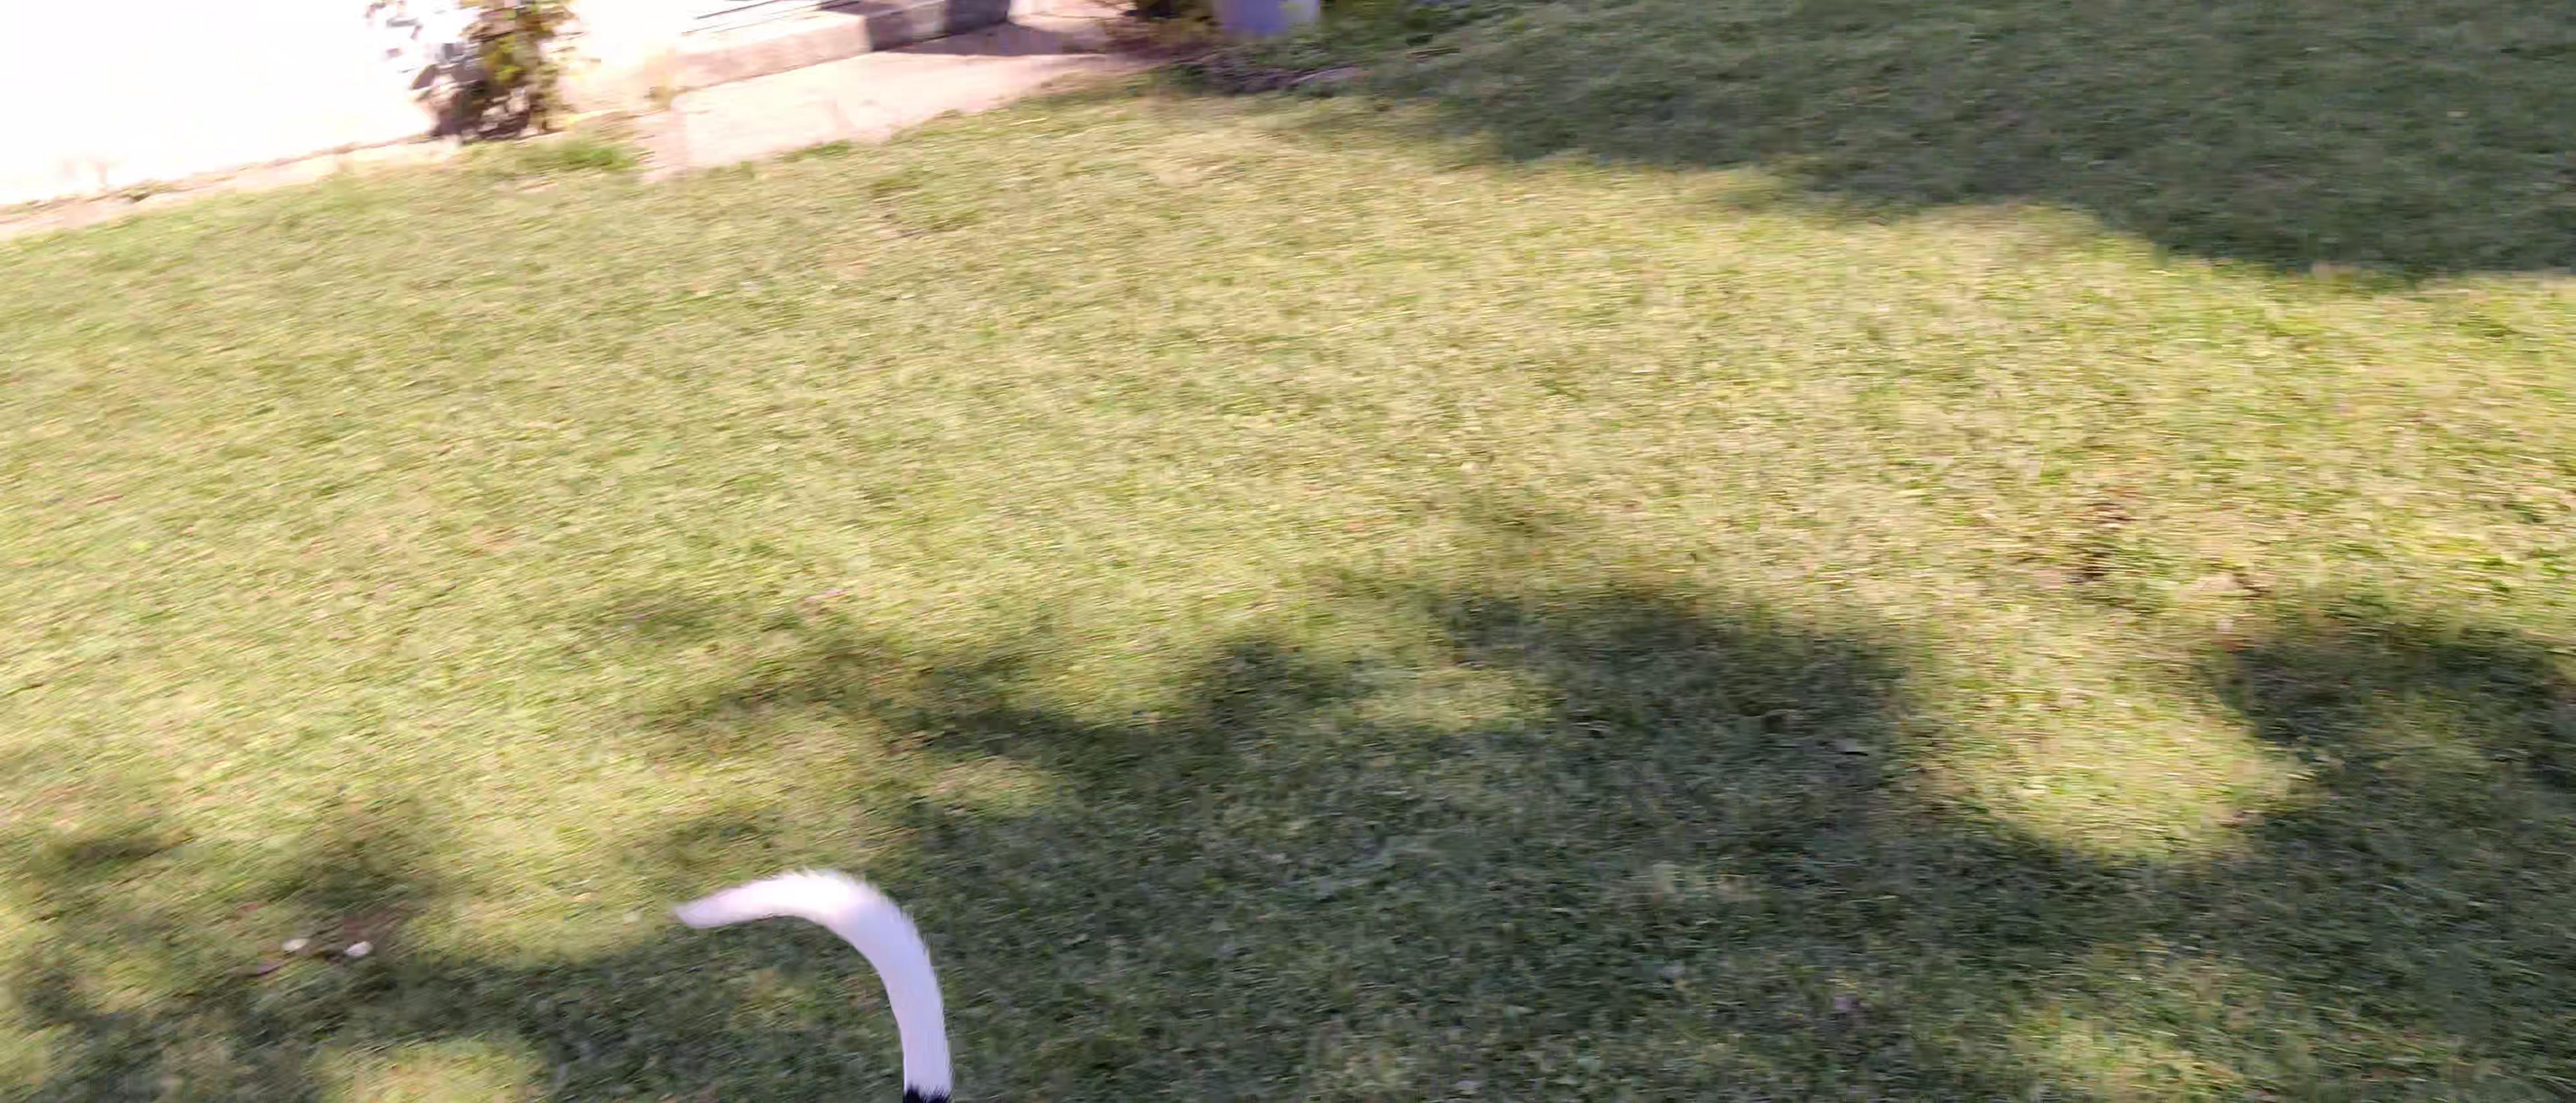Dog: (642, 838, 982, 1103)
